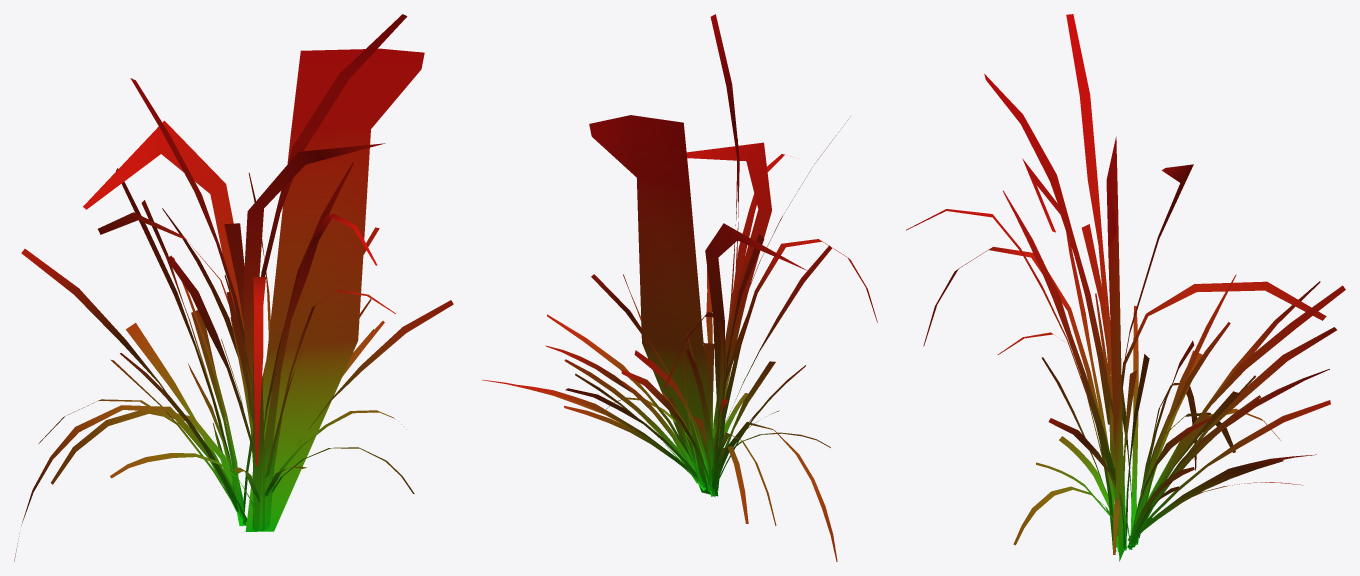
The model's file is Lemongrass_LOD2_Var2_sktne.fbx.
3 views of the same model, side by side, from view 1: azimuth 30°, elevation 25°; view 2: azimuth 150°, elevation 25°; view 3: azimuth 270°, elevation 25° (orthographic). The views are drawn at different scales.
Visible parts, largest first — view 1: _0e1d_Var2_LOD2; view 2: _0e1d_Var2_LOD2; view 3: _0e1d_Var2_LOD2.
Boxes of the visible parts, x1,y1,x2,y2 form: _0e1d_Var2_LOD2: (14, 14, 453, 561); _0e1d_Var2_LOD2: (482, 14, 877, 561); _0e1d_Var2_LOD2: (906, 14, 1345, 561).
Size of the model in its own units: 35.04 by 46.62 by 35.74.
